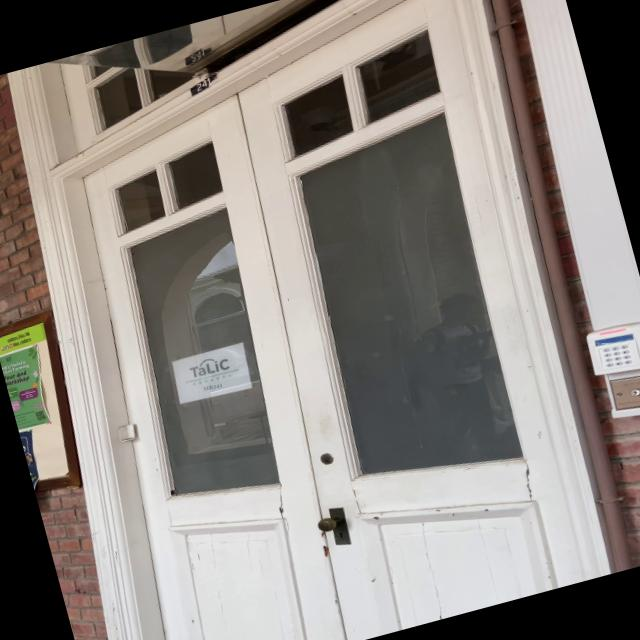room241: (185, 70, 222, 96)
